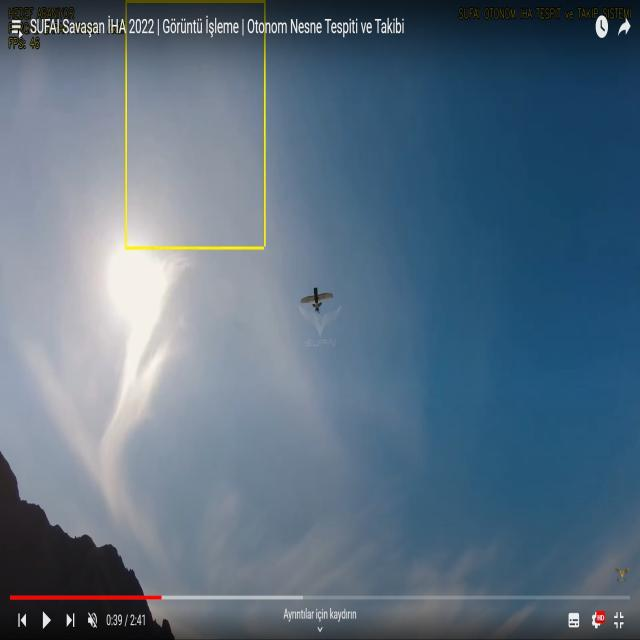iha: (299, 286, 334, 310)
